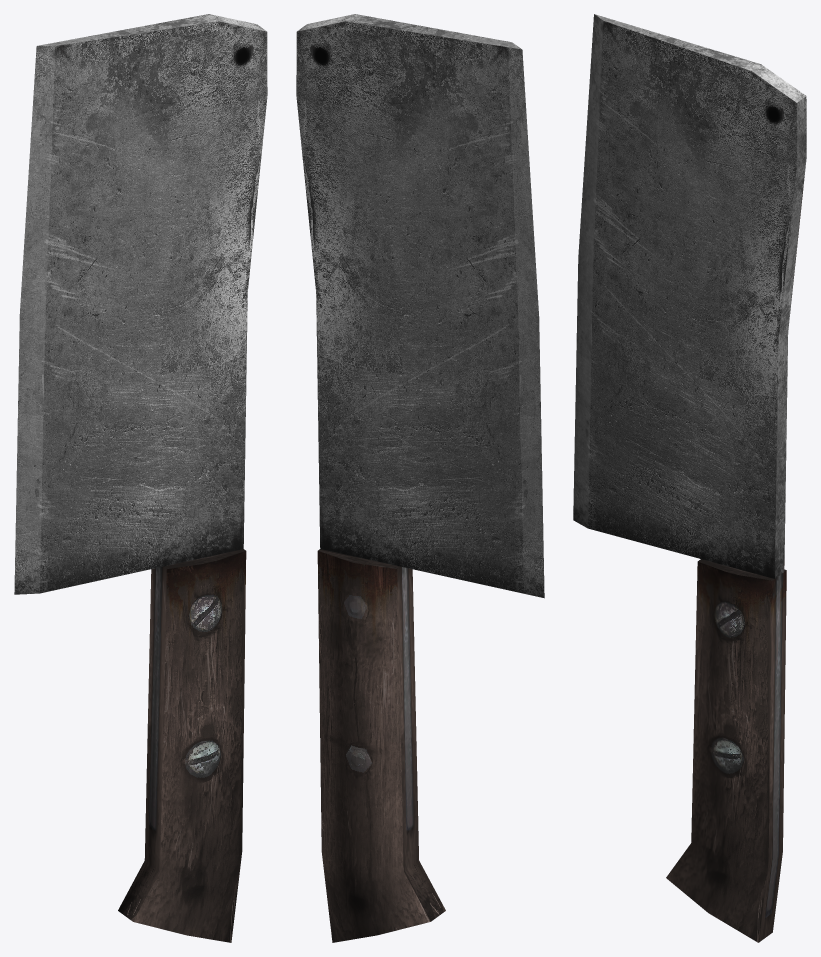
Rendered from cleaver_lowpoly_model.glb.
3 views of the same model, side by side, from view 1: azimuth 30°, elevation 25°; view 2: azimuth 150°, elevation 25°; view 3: azimuth 330°, elevation 25° (orthographic). The views are drawn at different scales.
Parts seen in each view (by area): view 1: Cleaver; view 2: Cleaver; view 3: Cleaver.
Part boxes in pixels (box(x1,y1,x2,y2)): Cleaver: box(14, 14, 267, 942); Cleaver: box(296, 14, 544, 942); Cleaver: box(573, 14, 806, 942).
Bounding box in the file's own units: 0.0887 × 0.3225 × 0.0145.
Materials: 1 (1 with a texture image).
